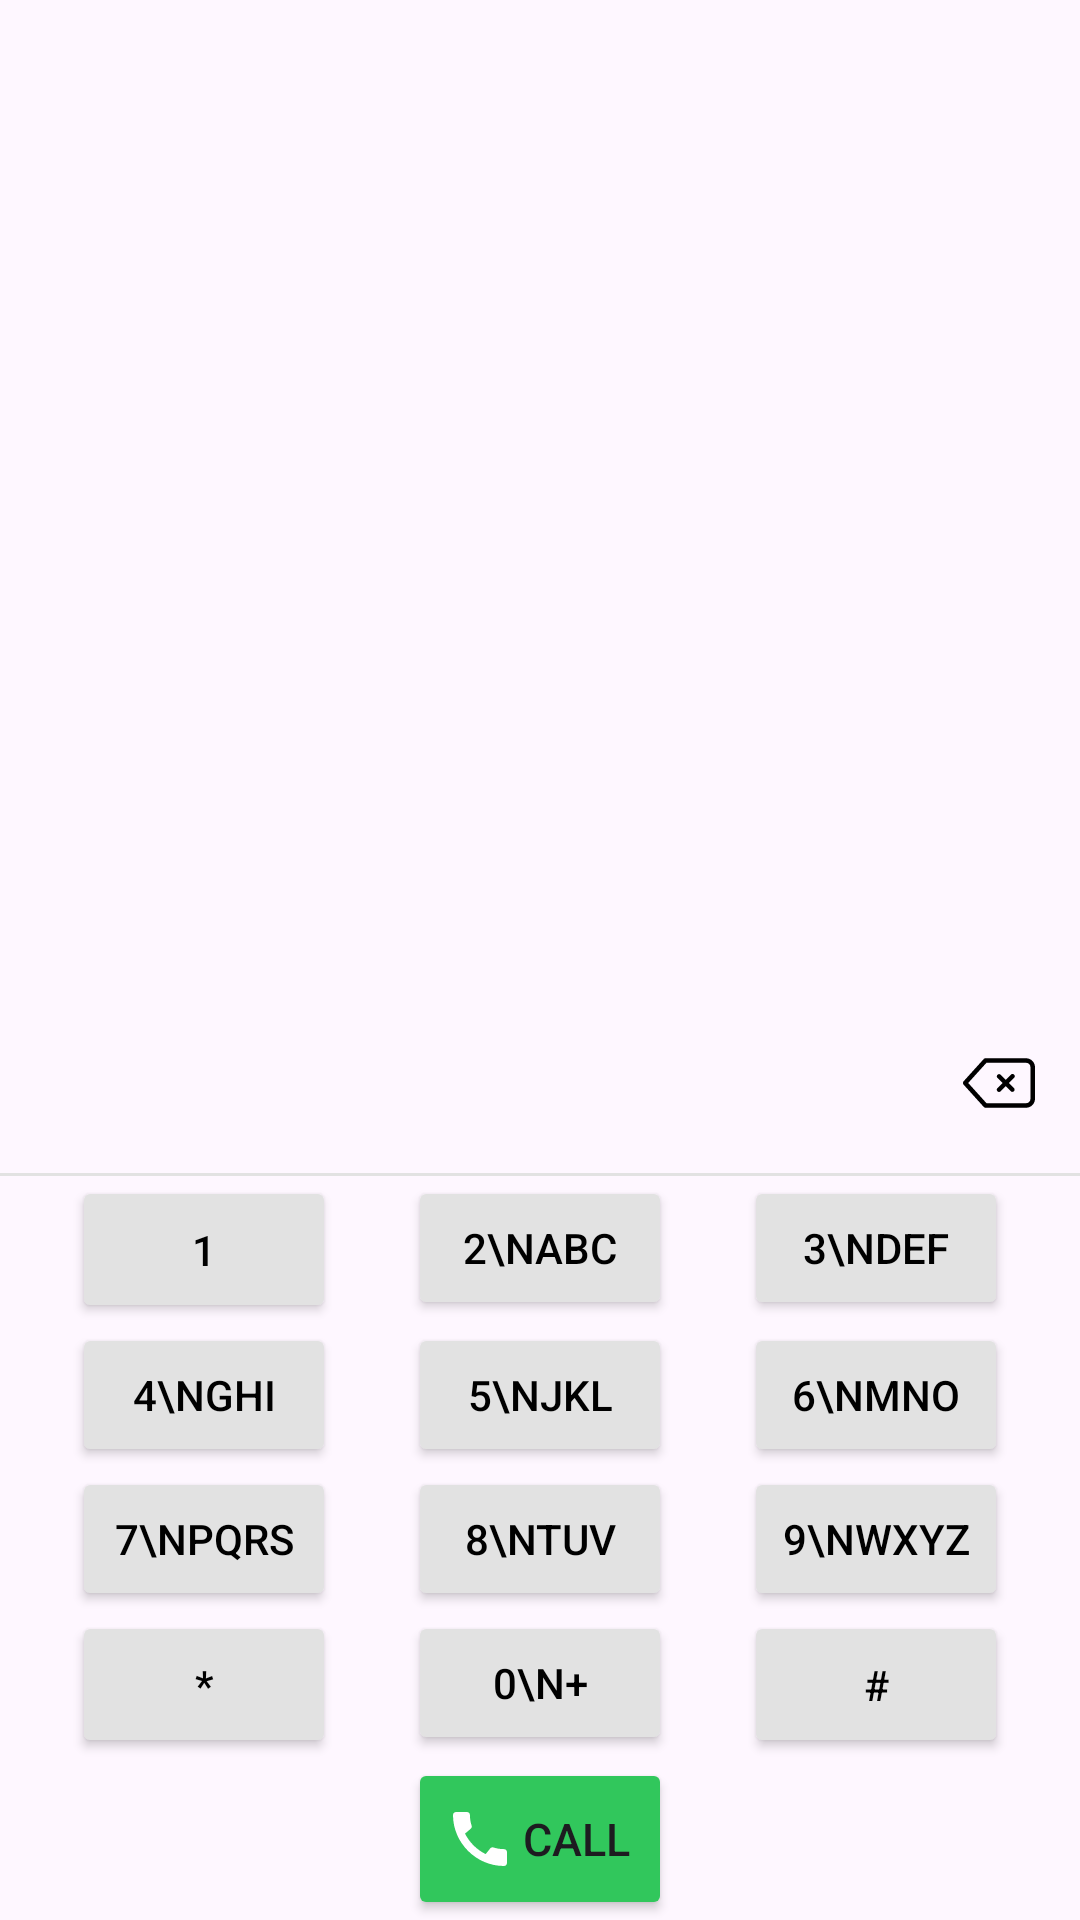

Named icons in this screenshot (1080*1920) and their bounding boxes, (x1, y1, x2, y2):
delete: (963, 1058, 1035, 1108)
